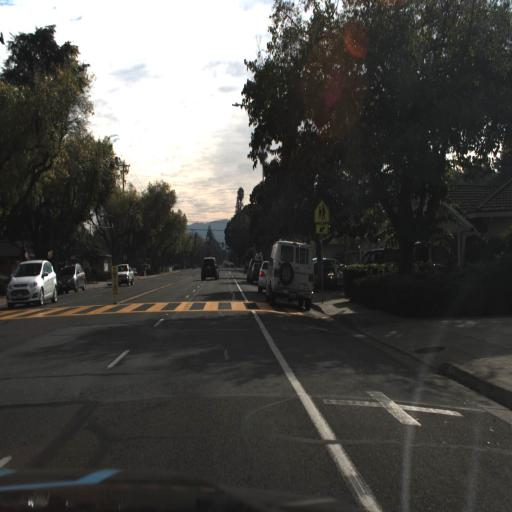car: (268, 238, 314, 310), (7, 257, 58, 308), (58, 266, 87, 295), (196, 250, 219, 284), (197, 253, 222, 284), (113, 263, 135, 288), (258, 259, 271, 299), (245, 259, 261, 284)
